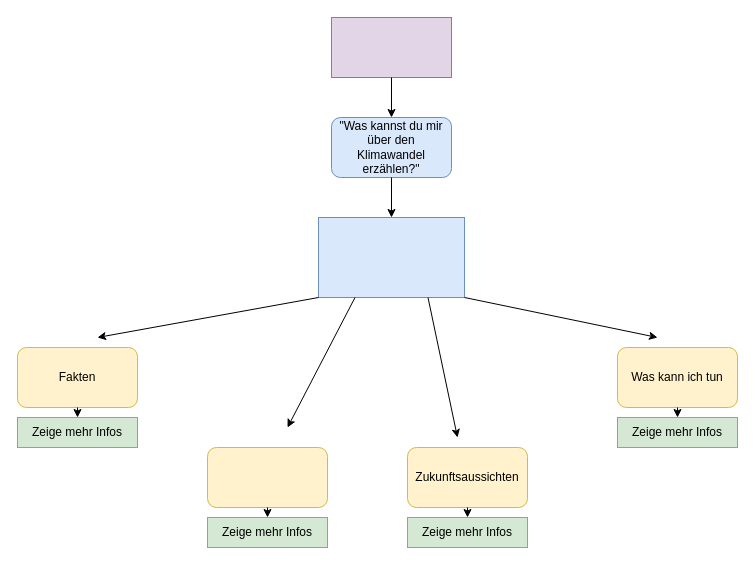
This 755x565 diagram has some shape labels left out. The shapes that lost their labels are listed below. From the top down, each one's centre as x and y in pixels, then its label:
[391,47]: Trigger: "Hilfe" - Sprachsteuerung aktivieren
[391,257]: Kategorien aufzählen, - Frage; über was möchte der Nutzer etwas erfahren?
[267,477]: Einflussfaktoren
